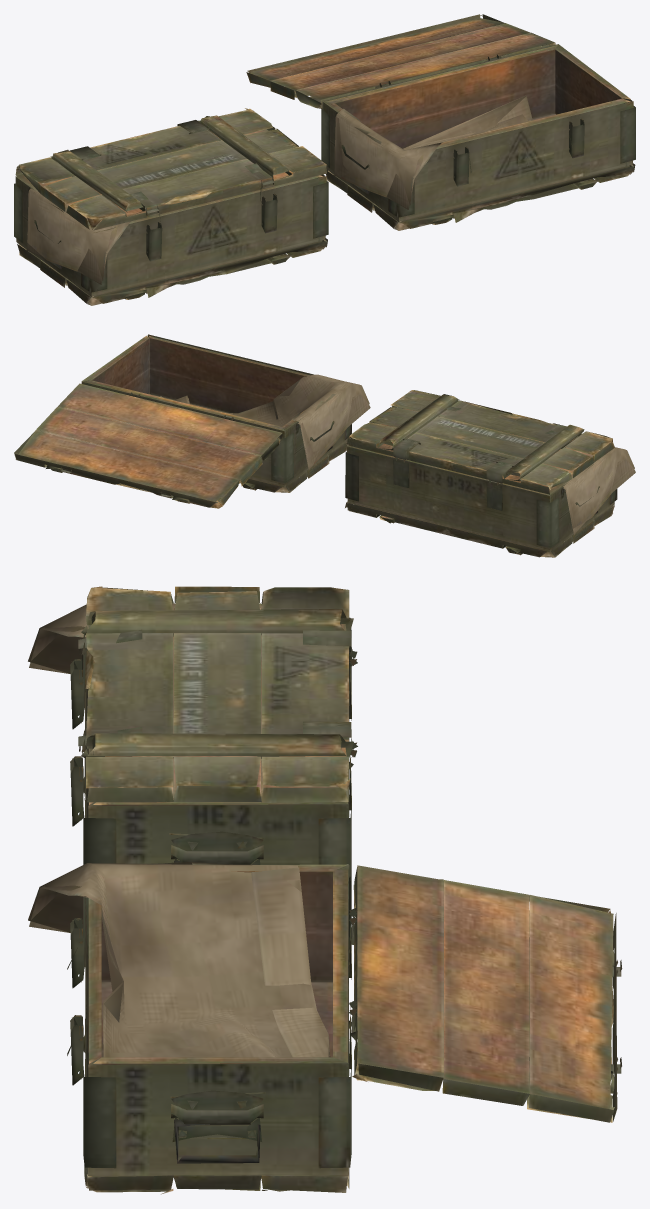
The model's file is old_military_crate.glb.
The picture shows the model from 3 angles, top to bottom: view 1: azimuth 30°, elevation 25°; view 2: azimuth 150°, elevation 25°; view 3: azimuth 270°, elevation 25°; orthographic projection. The views are drawn at different scales.
Parts seen in each view (by area): view 1: old_military_crate_lid_a; view 2: old_military_crate_lid_a; view 3: old_military_crate_lid_a.
Part boxes in pixels (<box>): old_military_crate_lid_a: <box>14,14,635,305</box>; old_military_crate_lid_a: <box>14,334,635,557</box>; old_military_crate_lid_a: <box>28,586,622,1194</box>.
Bounding box in the file's own units: 1.81 × 0.3015 × 0.9703.
1 material, 1 textured.
